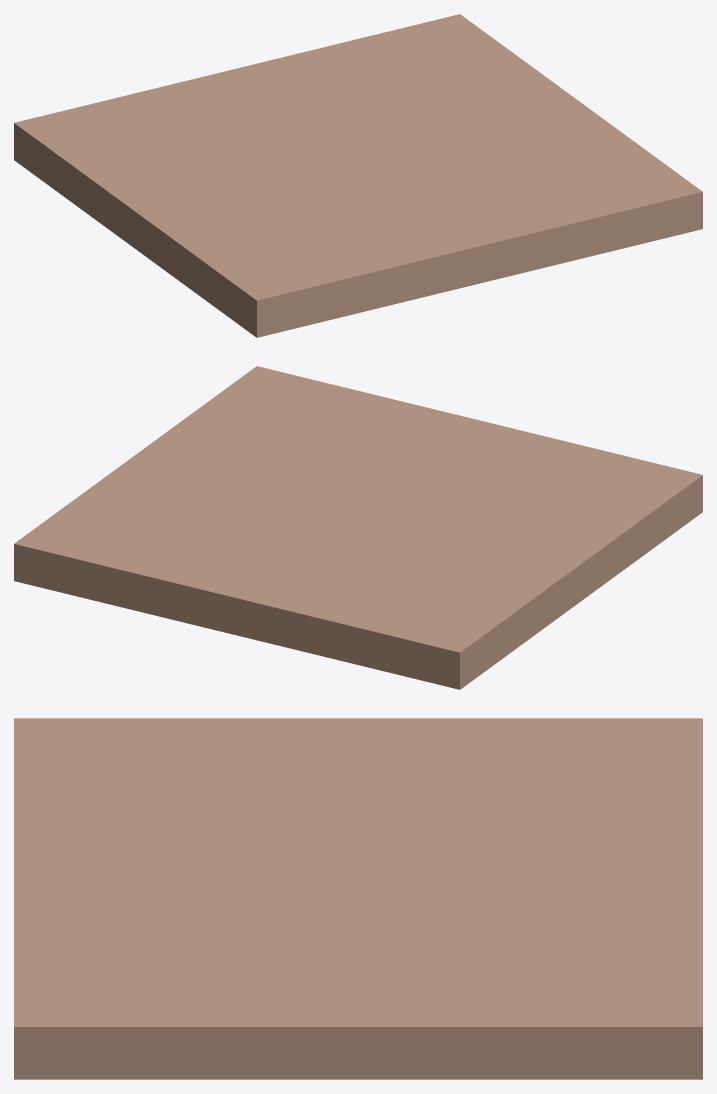
Rendered from XD-天花板.fbx.
The picture shows the model from 3 angles, top to bottom: view 1: azimuth 30°, elevation 25°; view 2: azimuth 150°, elevation 25°; view 3: azimuth 270°, elevation 25°; orthographic projection. The views are drawn at different scales.
Parts seen in each view (by area): view 1: XD-天花板; view 2: XD-天花板; view 3: XD-天花板.
Part boxes in pixels (x1=…): XD-天花板: x1=14, y1=14, x2=702, y2=337; XD-天花板: x1=14, y1=366, x2=702, y2=689; XD-天花板: x1=14, y1=718, x2=702, y2=1079.
Size of the model in its own units: 7.27 by 6.86 by 0.5805.
